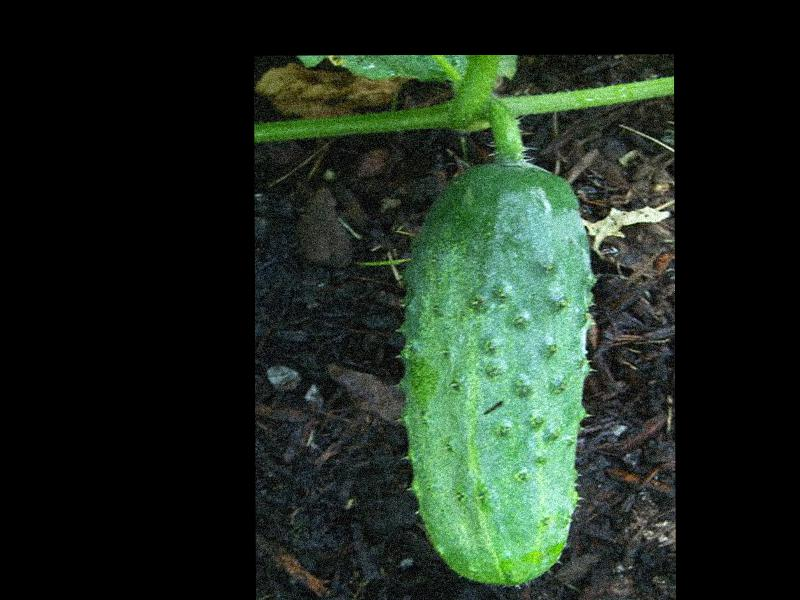Cucumber: (398, 161, 593, 588)
